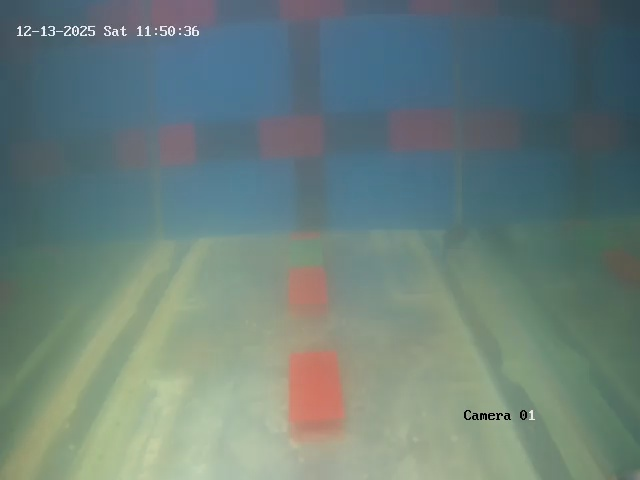fish: (423, 212, 488, 268)
